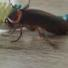cockroach: (5, 8, 68, 36)
